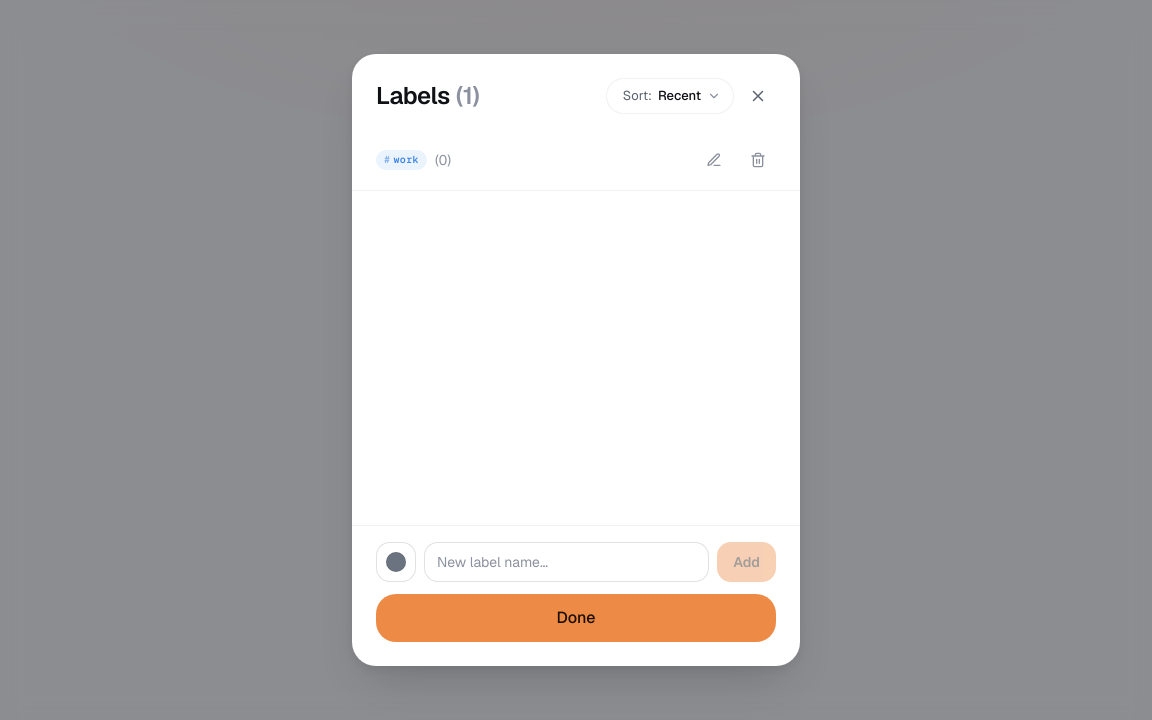
it: <LabelsManager> › does not rename when the field is empty (commit guard)
The image size is (1152, 720).
Click the button named "edit work": (714, 160) [696, 142, 732, 178]
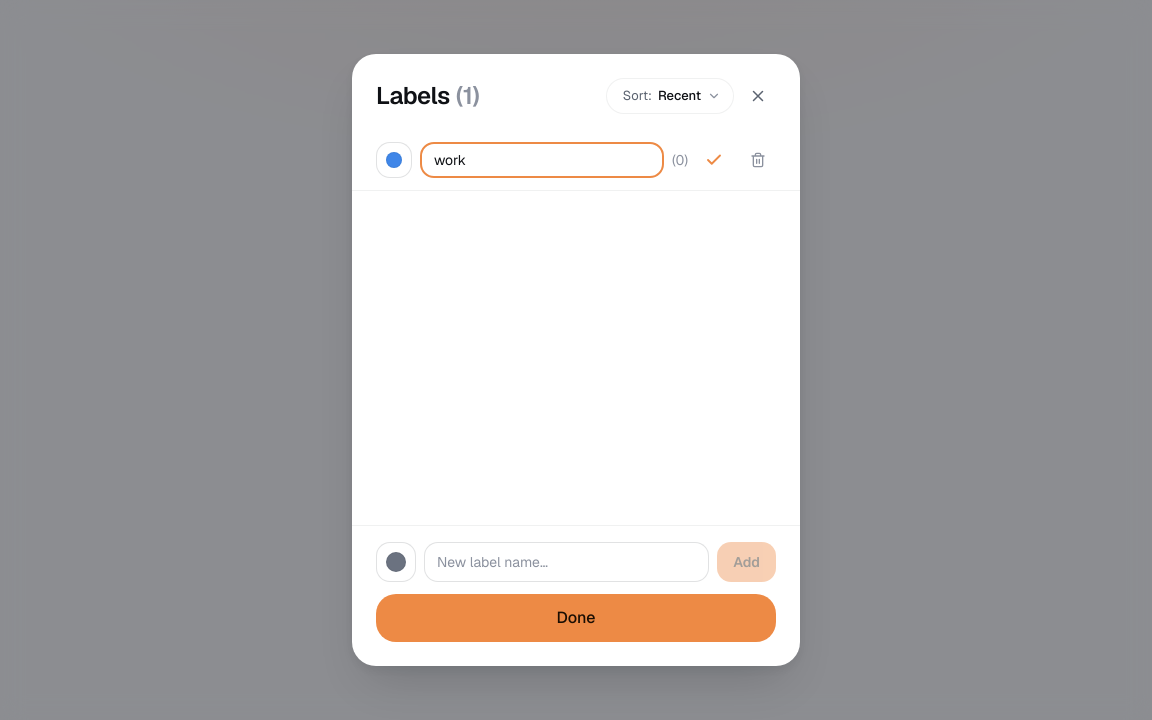
Clear the field showing "work": (542, 160) [420, 142, 664, 178]
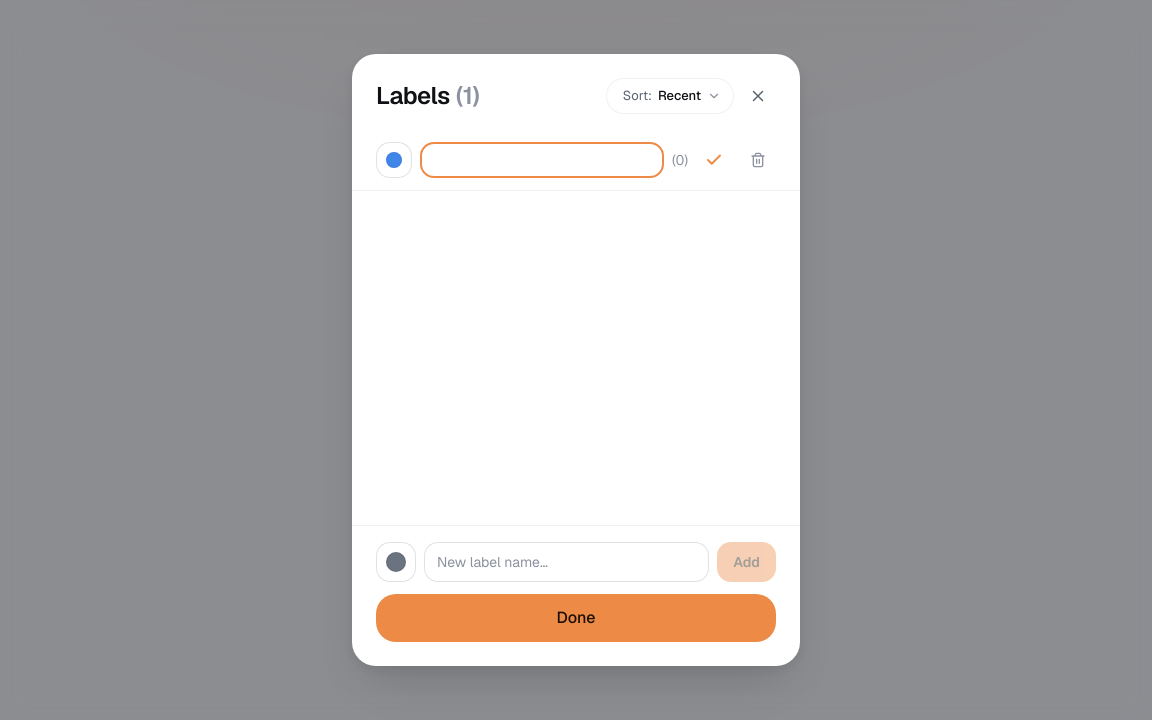
Click the button named "save": (714, 160) [696, 142, 732, 178]
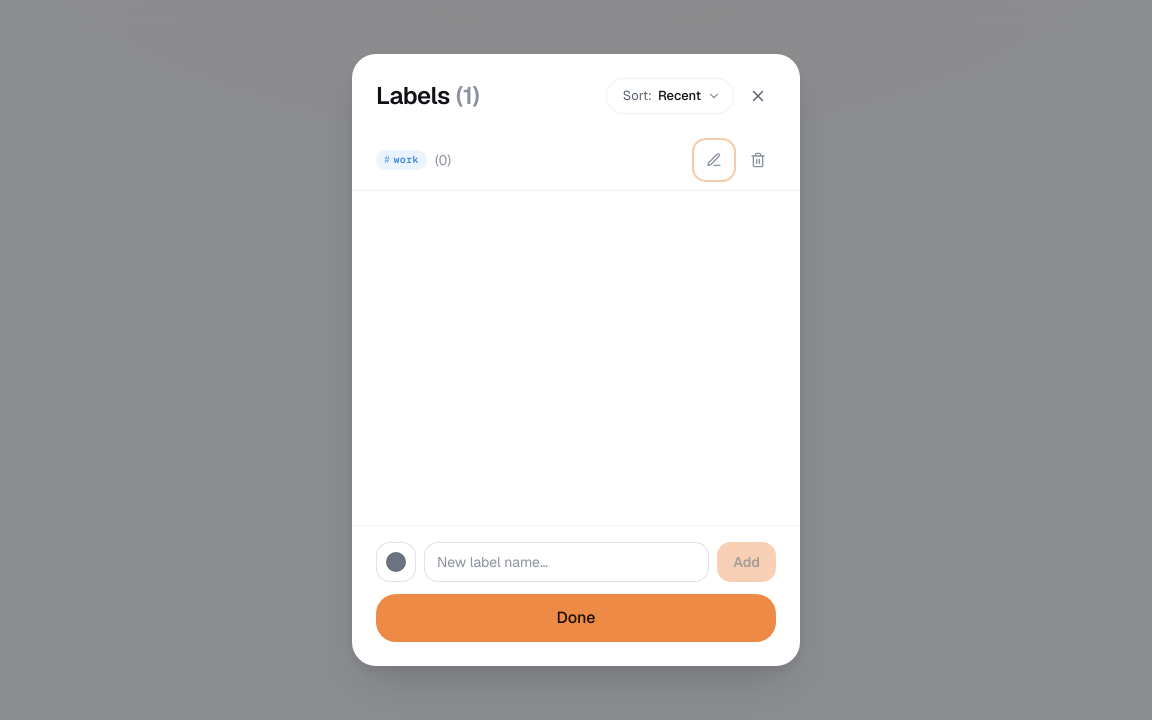
Check: the text "work" is shown, box [376, 150, 427, 170]
